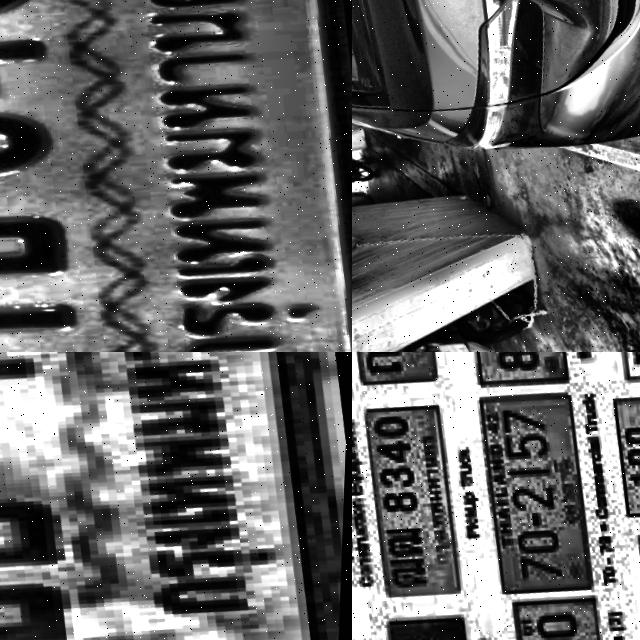license-plate: (0, 0, 352, 352), (0, 352, 352, 640), (475, 378, 602, 596), (361, 393, 470, 601), (508, 579, 628, 640), (383, 600, 497, 640), (613, 377, 640, 514), (441, 333, 482, 352)
